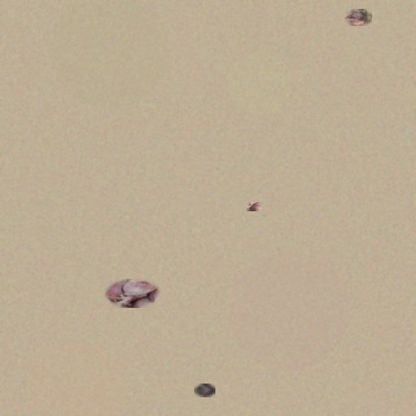rotten: (344, 9, 372, 26), (194, 384, 215, 397)
sprouted: (105, 279, 161, 308), (246, 202, 262, 211)
